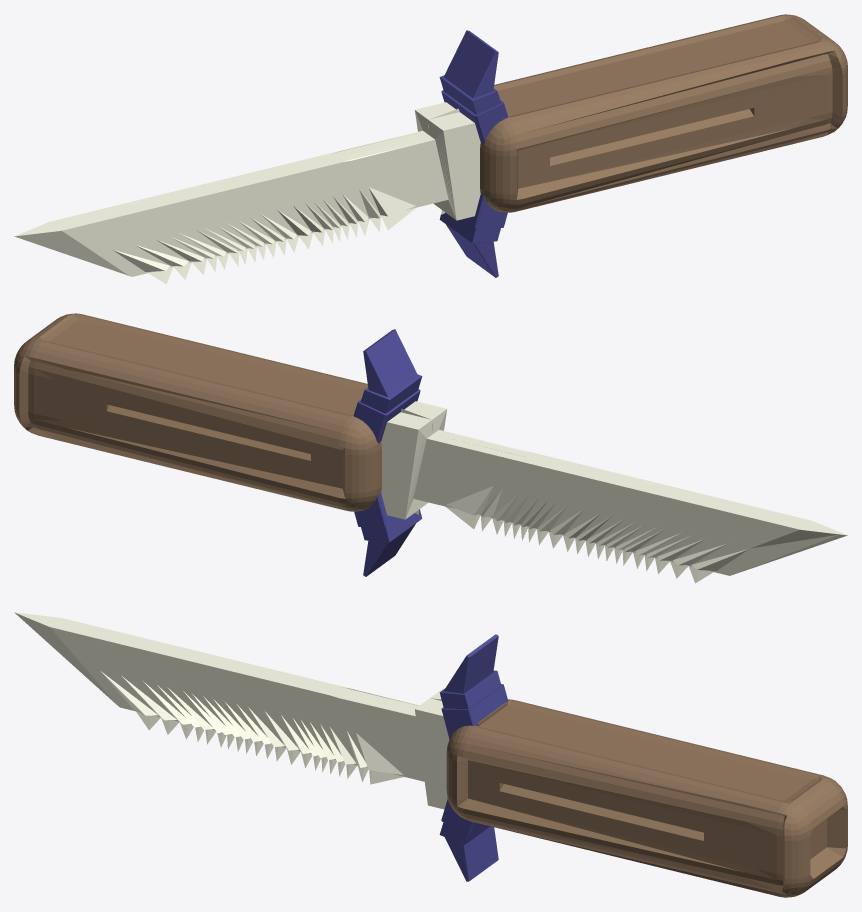
The model's file is knife.fbx.
3 renders of one model, top to bottom at view 1: azimuth 30°, elevation 25°; view 2: azimuth 150°, elevation 25°; view 3: azimuth 330°, elevation 25°, orthographic.
Visible parts, largest first — view 1: pCube8, pCube1, pCube4, pCube5; view 2: pCube8, pCube1, pCube4, pCube5; view 3: pCube8, pCube1, pCube4, pCube5.
Boxes of the visible parts, <box> form: pCube8: <box>480,14,847,212</box>; pCube1: <box>14,102,480,284</box>; pCube4: <box>439,30,508,144</box>; pCube5: <box>439,194,507,277</box>; pCube8: <box>14,313,381,511</box>; pCube1: <box>381,401,847,583</box>; pCube4: <box>353,329,422,443</box>; pCube5: <box>354,493,422,576</box>; pCube8: <box>446,699,847,897</box>; pCube1: <box>14,612,449,809</box>; pCube4: <box>439,634,508,739</box>; pCube5: <box>439,799,498,881</box>.
Size of the model in its own units: 38.25 by 10.14 by 4.9.
